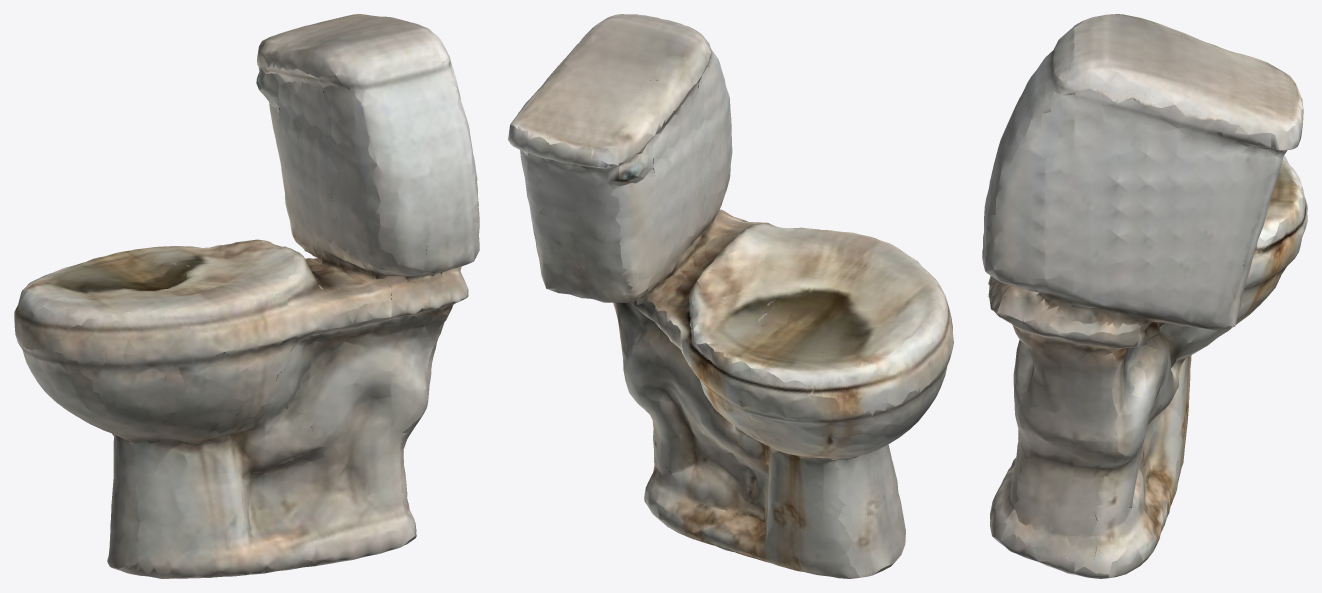
Rendered from toilet.glb.
The picture shows the model from 3 angles, left to right: view 1: azimuth 30°, elevation 25°; view 2: azimuth 150°, elevation 25°; view 3: azimuth 270°, elevation 25°; orthographic projection. The views are drawn at different scales.
Visible parts, largest first — view 1: world; view 2: world; view 3: world.
Part boxes in pixels (bbox=[...]): world: bbox=[14, 14, 479, 578]; world: bbox=[508, 14, 953, 578]; world: bbox=[982, 14, 1307, 578].
Bounding box in the file's own units: 0.746 × 0.9072 × 0.4861.
Materials: 1 (1 with a texture image).
